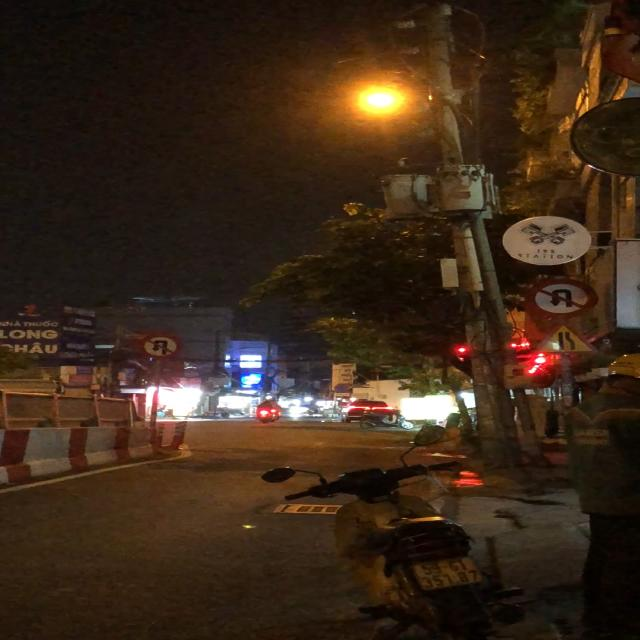Bien bao cam quay dau xe: (522, 277, 602, 318), (136, 330, 184, 360)
Bien bao duong bi thu hep: (530, 321, 602, 355)
